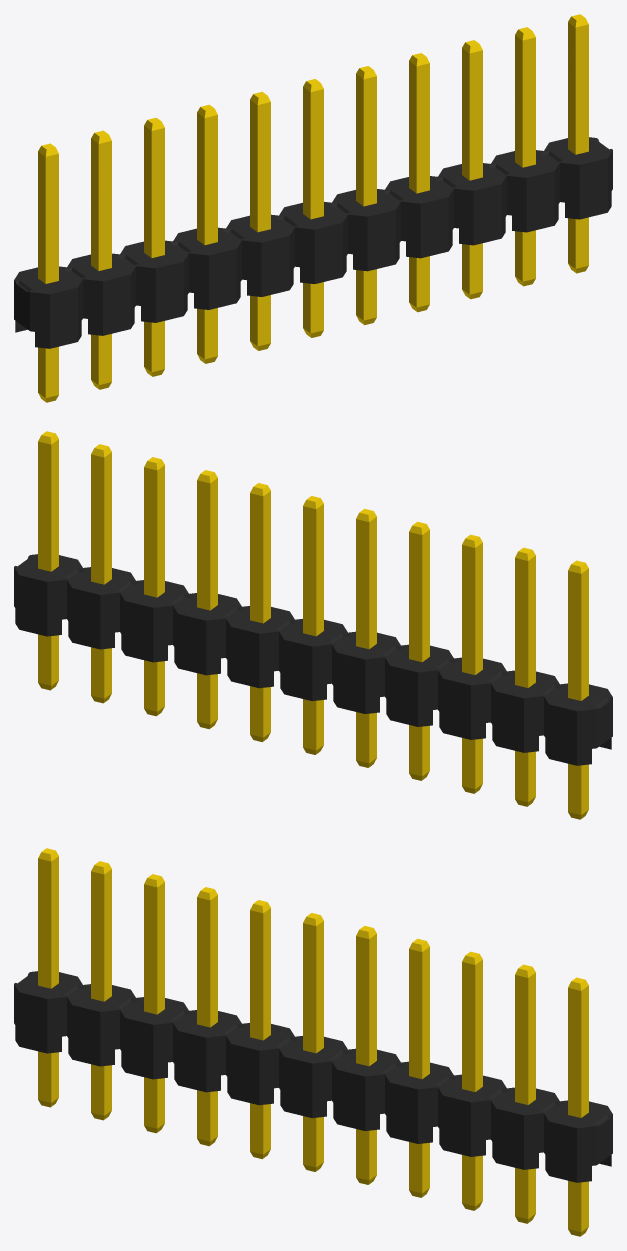
Rendered from PLS11.glb.
The picture shows the model from 3 angles, top to bottom: view 1: azimuth 30°, elevation 25°; view 2: azimuth 150°, elevation 25°; view 3: azimuth 330°, elevation 25°; orthographic projection.
Visible parts, largest first — view 1: PLS (DS1021 CONNFLY); view 2: PLS (DS1021 CONNFLY); view 3: PLS (DS1021 CONNFLY).
Part boxes in pixels (x1,y1,x2,y2): PLS (DS1021 CONNFLY): (14, 14, 612, 402); PLS (DS1021 CONNFLY): (14, 431, 612, 819); PLS (DS1021 CONNFLY): (14, 848, 612, 1236).
Bounding box in the file's own units: 0.0279 × 0.0116 × 0.00254.
